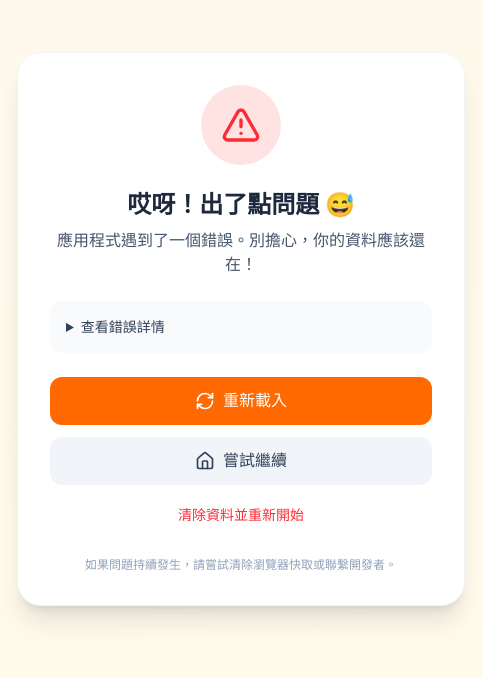
Test: ErrorBoundary › shows error details in collapsible section
// Click to expand details
What coordinates should you click on to do the following:
click the heading "查看錯誤詳情"
I would click on:
 (123, 327)
Its box is [81,319,165,335].
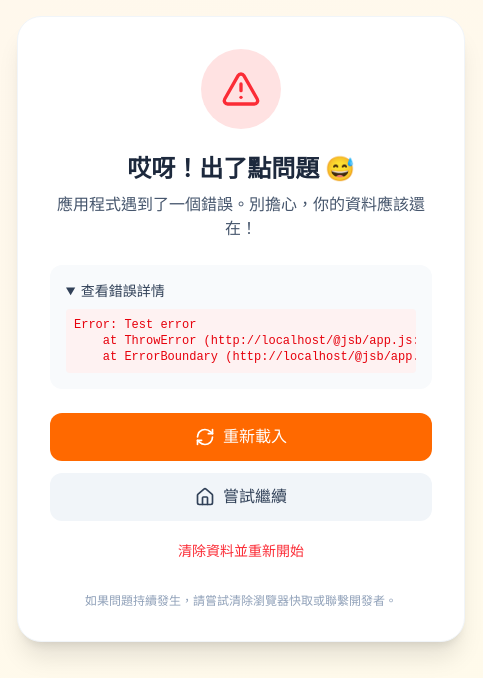
Expected: the text "Test error" is shown, [74,318,196,332]
